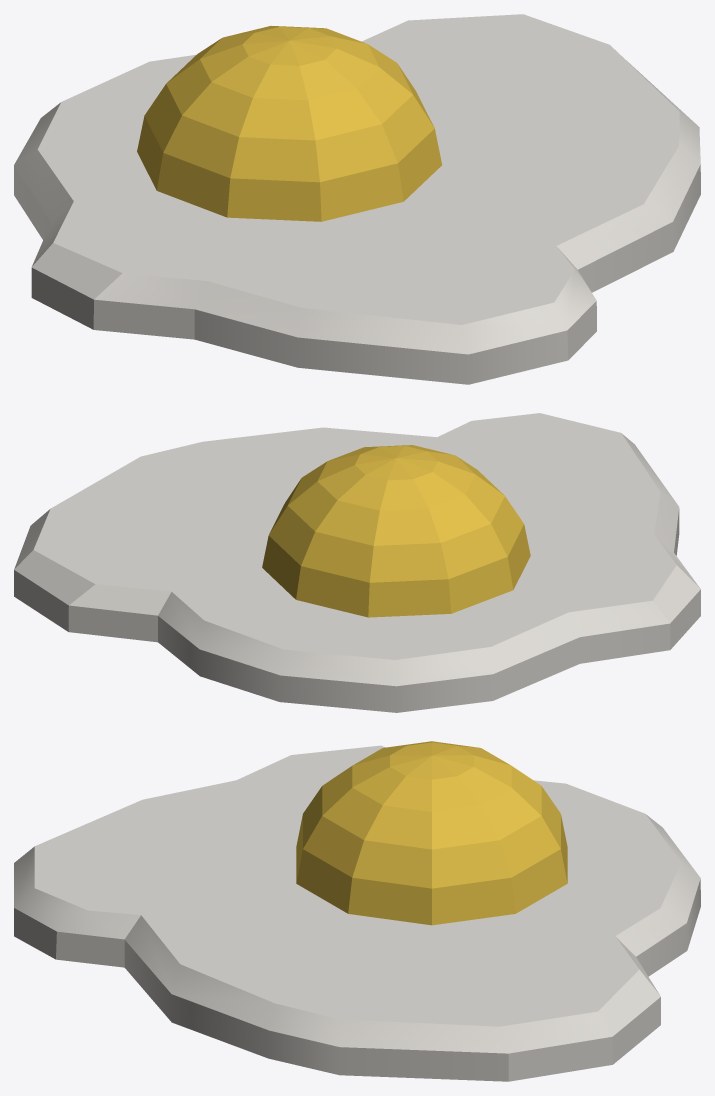
Rendered from Egg (1).fbx.
The picture shows the model from 3 angles, top to bottom: view 1: azimuth 30°, elevation 25°; view 2: azimuth 150°, elevation 25°; view 3: azimuth 270°, elevation 25°; orthographic projection. The views are drawn at different scales.
Parts seen in each view (by area): view 1: pSphere18; view 2: pSphere18; view 3: pSphere18.
Boxes of the visible parts, bbox=[...] form: pSphere18: bbox=[14, 14, 700, 384]; pSphere18: bbox=[14, 413, 700, 712]; pSphere18: bbox=[14, 741, 700, 1081].
Size of the model in its own units: 0.283 by 0.069 by 0.275.
